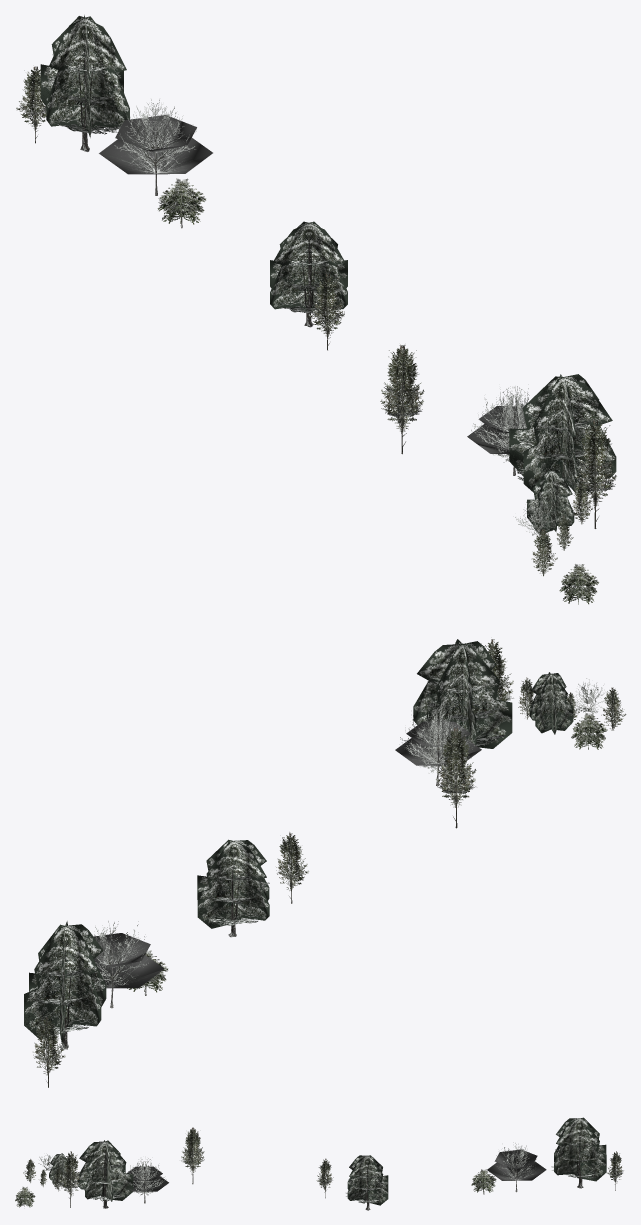
3 renders of one model, top to bottom at view 1: azimuth 30°, elevation 25°; view 2: azimuth 150°, elevation 25°; view 3: azimuth 270°, elevation 25°, orthographic. The views are drawn at different scales.
Visible parts, largest first — view 1: mesh2, mesh1, mesh6, mesh3, mesh0, mesh5, mesh4; view 2: mesh2, mesh1, mesh6, mesh3, mesh5, mesh0, mesh4; view 3: mesh2, mesh1, mesh6, mesh3, mesh0, mesh5, mesh4, mesh9.
Boxes of the visible parts, left/top/right/bottom form: mesh2: left=40, top=15, right=616, bottom=534; mesh1: left=16, top=66, right=616, bottom=576; mesh6: left=99, top=115, right=526, bottom=453; mesh3: left=114, top=99, right=561, bottom=535; mesh0: left=157, top=178, right=598, bottom=604; mesh5: left=47, top=49, right=611, bottom=488; mesh4: left=19, top=79, right=615, bottom=491; mesh2: left=24, top=639, right=573, bottom=1044; mesh1: left=33, top=639, right=626, bottom=1075; mesh6: left=93, top=721, right=481, bottom=988; mesh3: left=94, top=678, right=609, bottom=985; mesh5: left=32, top=675, right=504, bottom=1034; mesh0: left=127, top=712, right=607, bottom=992; mesh4: left=33, top=659, right=513, bottom=1061; mesh2: left=49, top=1117, right=606, bottom=1205; mesh1: left=23, top=1127, right=621, bottom=1196; mesh6: left=127, top=1149, right=546, bottom=1191; mesh3: left=38, top=1142, right=536, bottom=1195; mesh0: left=15, top=1169, right=496, bottom=1207; mesh5: left=83, top=1142, right=600, bottom=1203; mesh4: left=59, top=1141, right=623, bottom=1187; mesh9: left=103, top=1127, right=583, bottom=1210.
Size of the model in its own units: 13.89 by 15.62 by 88.58.
